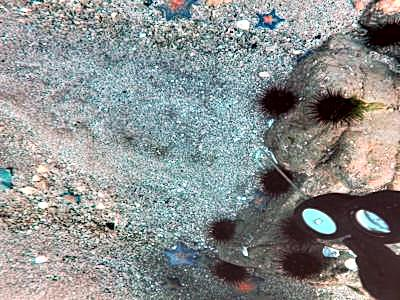urchin: (303, 86, 354, 124), (279, 247, 327, 280), (256, 83, 295, 120), (261, 164, 294, 194), (367, 16, 396, 46), (209, 213, 236, 243), (213, 261, 249, 281), (278, 217, 308, 240)
